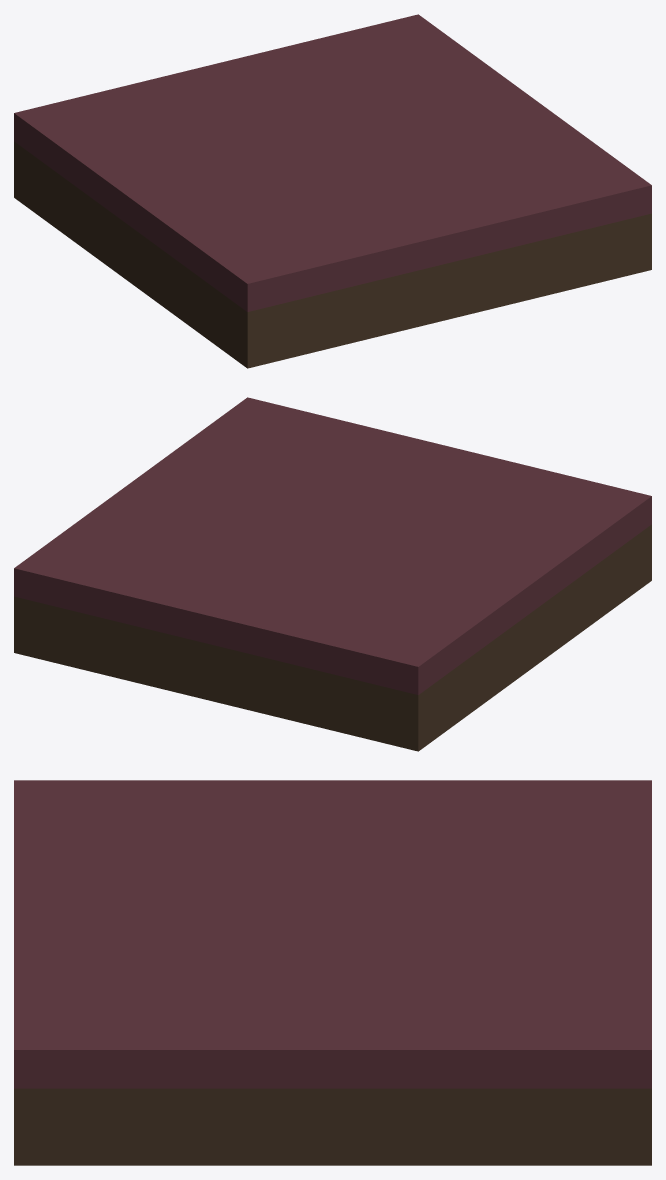
Rendered from tile-race-track-straight.fbx.
3 renders of one model, top to bottom at view 1: azimuth 30°, elevation 25°; view 2: azimuth 150°, elevation 25°; view 3: azimuth 270°, elevation 25°, orthographic. The views are drawn at different scales.
Parts seen in each view (by area): view 1: tile-race-track-straight; view 2: tile-race-track-straight; view 3: tile-race-track-straight.
Part boxes in pixels (box(x1,y1,x2,y2)): tile-race-track-straight: box(14, 14, 651, 368); tile-race-track-straight: box(14, 397, 651, 751); tile-race-track-straight: box(14, 780, 651, 1165).
Size of the model in its own units: 30 by 6 by 30.
